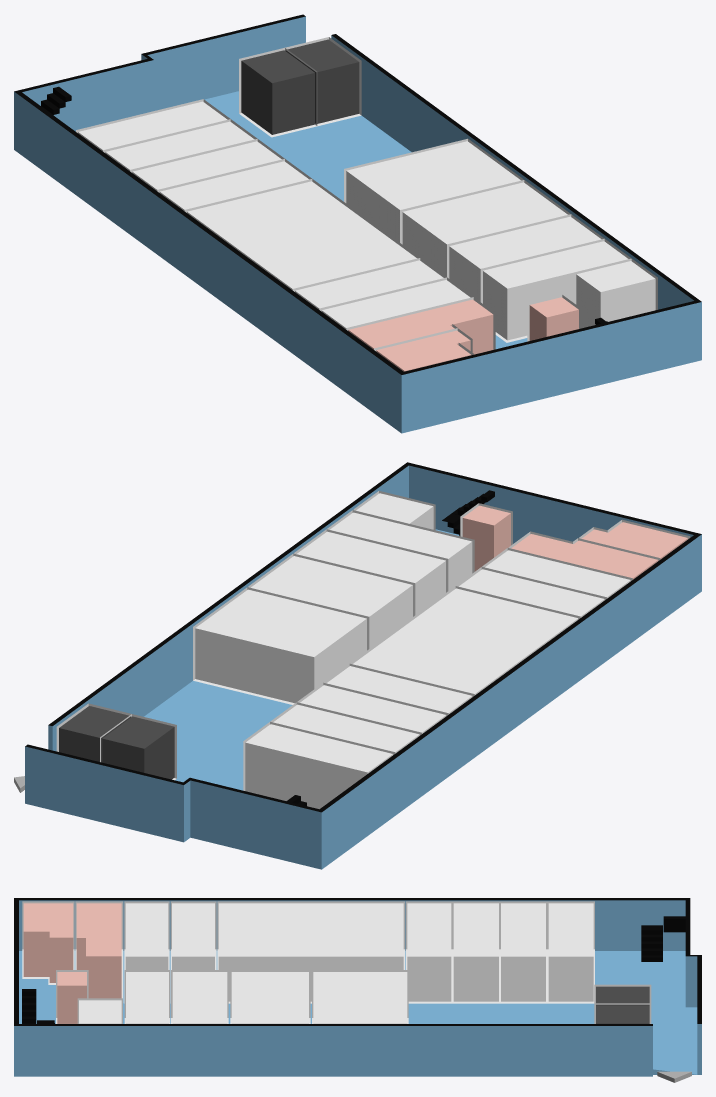
3 renders of one model, top to bottom at view 1: azimuth 30°, elevation 25°; view 2: azimuth 150°, elevation 25°; view 3: azimuth 270°, elevation 25°, orthographic. The views are drawn at different scales.
Parts seen in each view (by area): view 1: object, room_3_1_12, エレベーター_3_1_1, room_3_1_2, room_3_1_9, room_3_1_11, room_3_1_10, room_3_1_1, トイレ_3_1_2, room_3_1_4, room_3_1_3, room_3_1_6 (+9 smaller); view 2: object, room_3_1_2, room_3_1_12, room_3_1_6, room_3_1_9, エレベーター_3_1_1, room_3_1_10, room_3_1_11, room_3_1_5, room_3_1_4, room_3_1_8, room_3_1_3 (+8 smaller); view 3: object, room_3_1_12, room_3_1_2, room_3_1_4, room_3_1_6, room_3_1_5, room_3_1_3, トイレ_3_1_2, room_3_1_9, トイレ_3_1_1, room_3_1_7, room_3_1_10 (+21 smaller).
Boxes of the visible parts, left/top/right/bottom form: object: left=14, top=14, right=701, bottom=433; room_3_1_12: left=187, top=181, right=416, bottom=289; エレベーター_3_1_1: left=241, top=39, right=359, bottom=134; room_3_1_2: left=346, top=141, right=520, bottom=242; room_3_1_9: left=402, top=182, right=567, bottom=276; room_3_1_11: left=483, top=241, right=628, bottom=340; room_3_1_10: left=449, top=216, right=601, bottom=301; room_3_1_1: left=576, top=261, right=655, bottom=328; トイレ_3_1_2: left=348, top=299, right=493, bottom=354; room_3_1_4: left=132, top=141, right=281, bottom=190; room_3_1_3: left=159, top=161, right=308, bottom=210; room_3_1_6: left=78, top=101, right=227, bottom=151; object: left=25, top=462, right=701, bottom=869; room_3_1_2: left=195, top=589, right=366, bottom=703; room_3_1_12: left=353, top=588, right=578, bottom=695; room_3_1_6: left=245, top=724, right=392, bottom=809; room_3_1_9: left=251, top=556, right=412, bottom=648; エレベーター_3_1_1: left=59, top=706, right=174, bottom=779; room_3_1_10: left=296, top=531, right=445, bottom=615; room_3_1_11: left=330, top=512, right=472, bottom=590; room_3_1_5: left=273, top=704, right=419, bottom=753; room_3_1_4: left=300, top=685, right=446, bottom=733; room_3_1_8: left=459, top=569, right=604, bottom=617; room_3_1_3: left=326, top=666, right=472, bottom=714; object: left=14, top=898, right=701, bottom=1076; room_3_1_12: left=218, top=903, right=403, bottom=1001; room_3_1_2: left=313, top=972, right=407, bottom=1023; room_3_1_4: left=453, top=903, right=498, bottom=1001; room_3_1_6: left=548, top=903, right=593, bottom=1001; room_3_1_5: left=501, top=903, right=545, bottom=1001; room_3_1_3: left=407, top=903, right=451, bottom=1001; トイレ_3_1_2: left=76, top=903, right=121, bottom=998; room_3_1_9: left=231, top=972, right=308, bottom=1023; トイレ_3_1_1: left=23, top=903, right=73, bottom=982; room_3_1_7: left=125, top=903, right=168, bottom=969; room_3_1_10: left=172, top=972, right=227, bottom=1023.
Size of the model in its own units: 1.19 by 0.2057 by 2.52.
